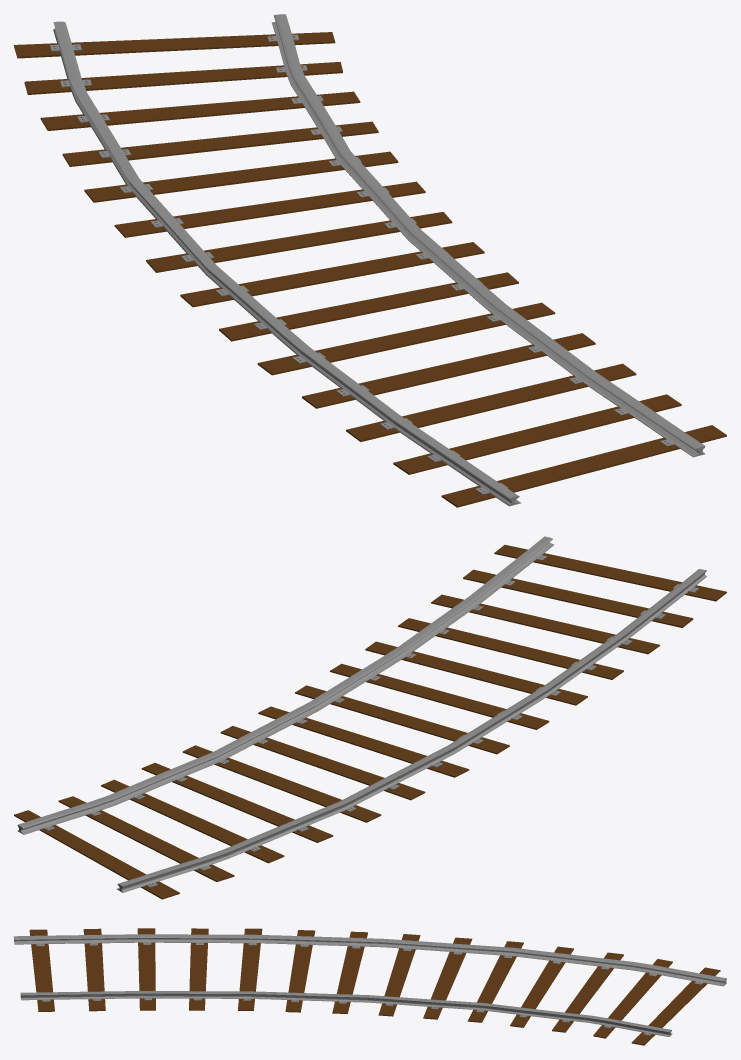
File: TrainTrack3.fbx
3 views of the same model, one above another, from view 1: azimuth 30°, elevation 25°; view 2: azimuth 150°, elevation 25°; view 3: azimuth 270°, elevation 25° (orthographic). The views are drawn at different scales.
Visible parts, largest first — view 1: Cube.014; view 2: Cube.014; view 3: Cube.014.
Part boxes in pixels (x1,y1,x2,y2): Cube.014: (14,14,726,507); Cube.014: (14,536,726,899); Cube.014: (14,928,726,1045).
Bounding box in the file's own units: 754 × 21.38 × 1967.
